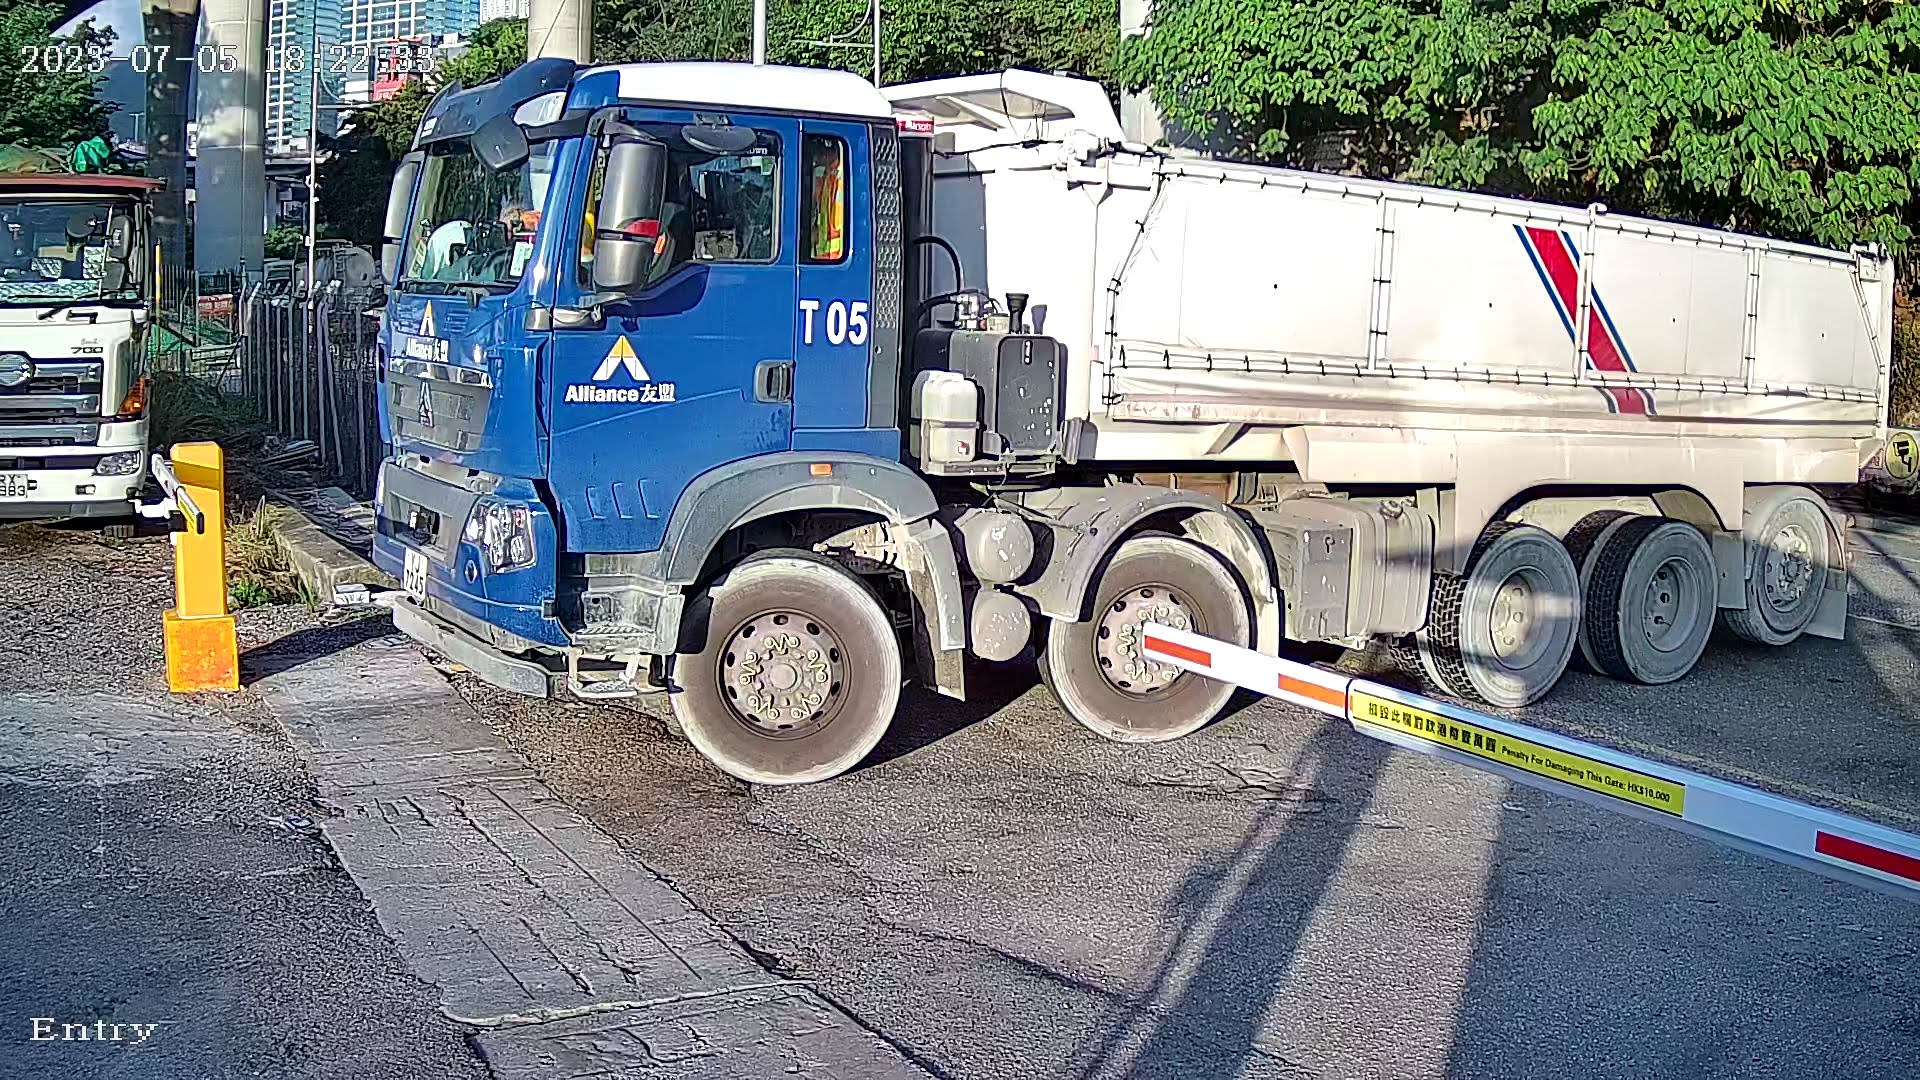truck: (301, 22, 1907, 810)
